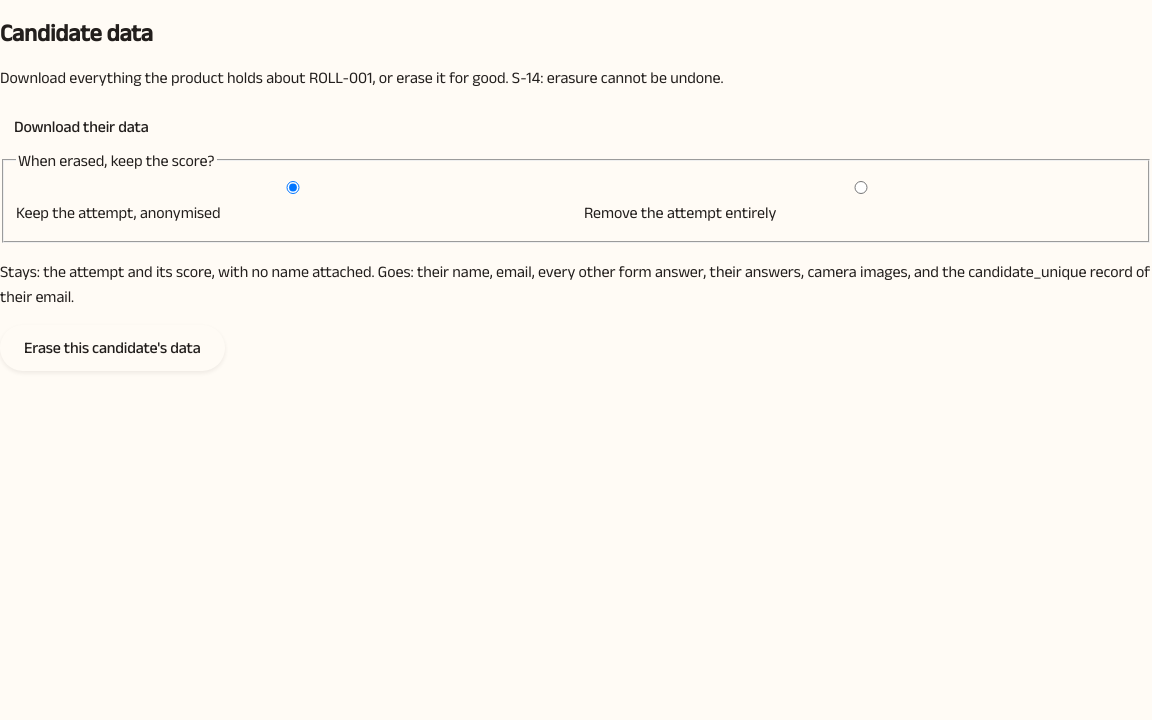
Test: CandidateDataPanel (S-14) › shows the server's own message when erasure is refused (409, an attempt in progress)
The image size is (1152, 720).
Click the button "Erase this candidate's data" at {"x": 112, "y": 348}, box [0,325,224,371]
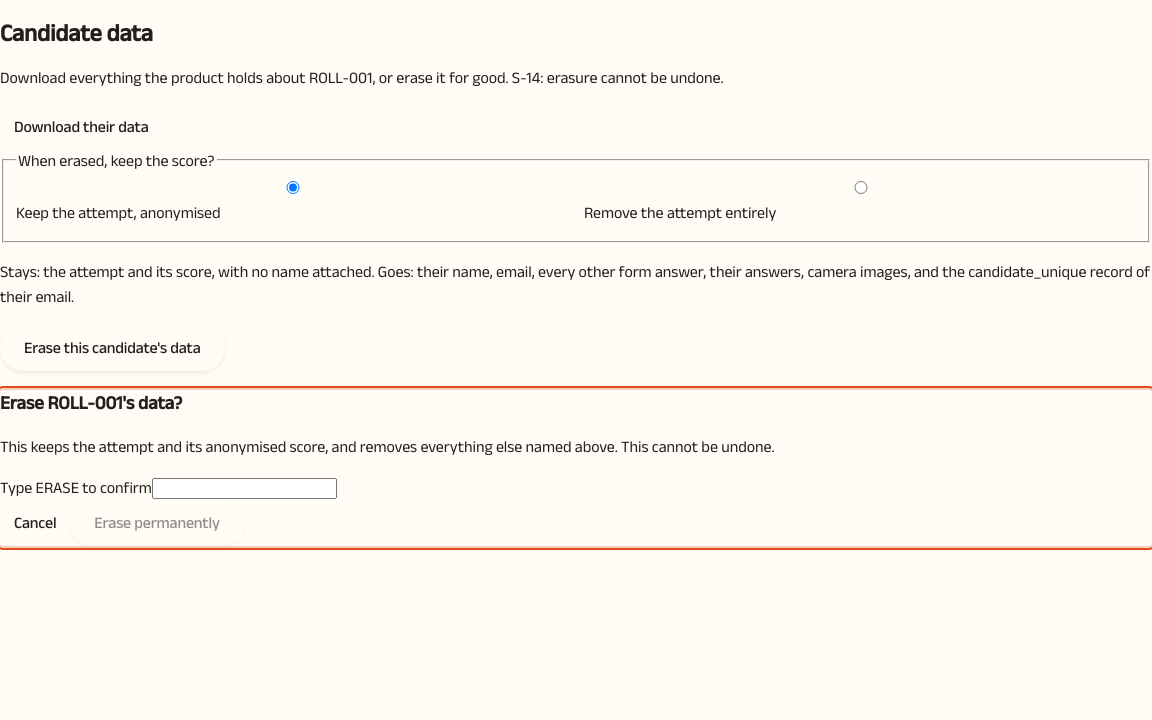
Type "ERASE" into the field labelled "Type ERASE to confirm" at {"x": 244, "y": 488}, box [152,478,337,499]
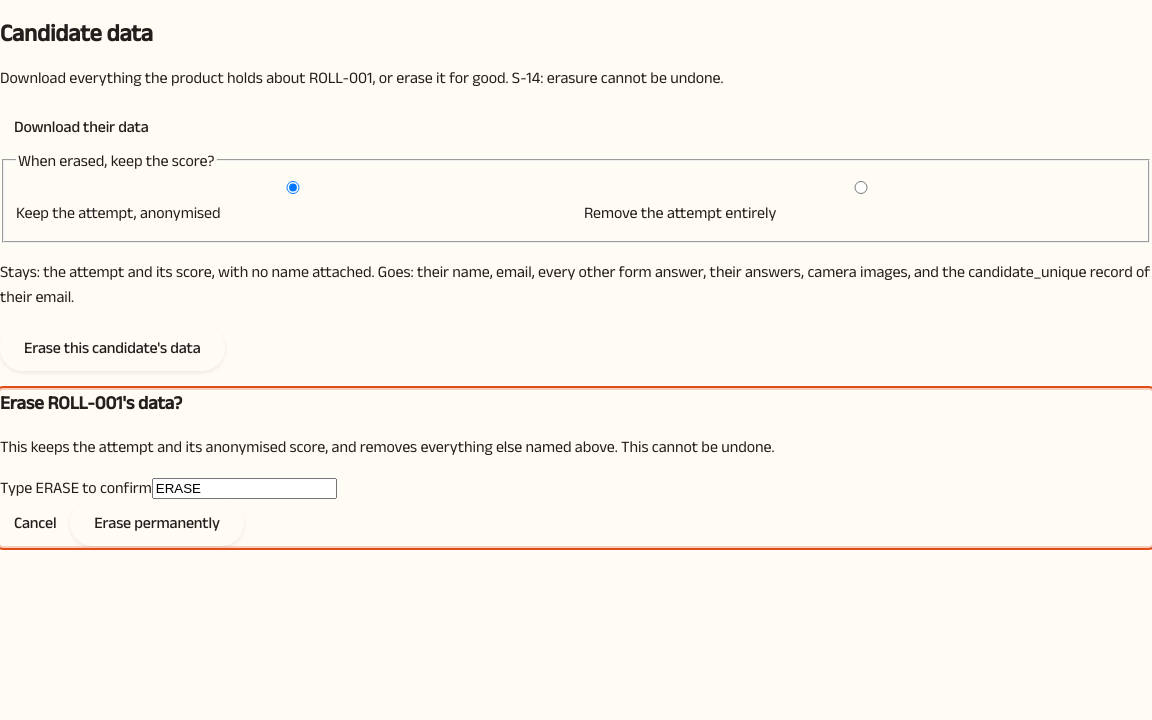
Click the button "Erase permanently" at {"x": 157, "y": 523}, box [70,500,244,546]
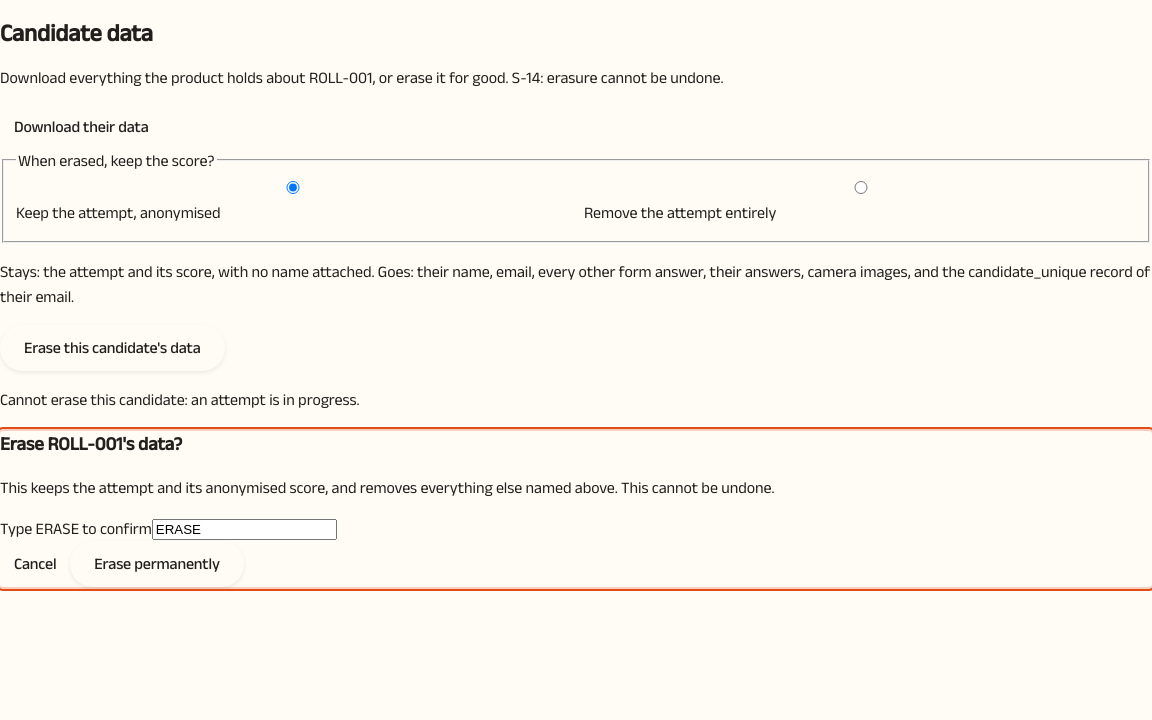
Expected: the message "Cannot erase this candidate: an attempt is in progress." is shown, [0,391,360,408]
